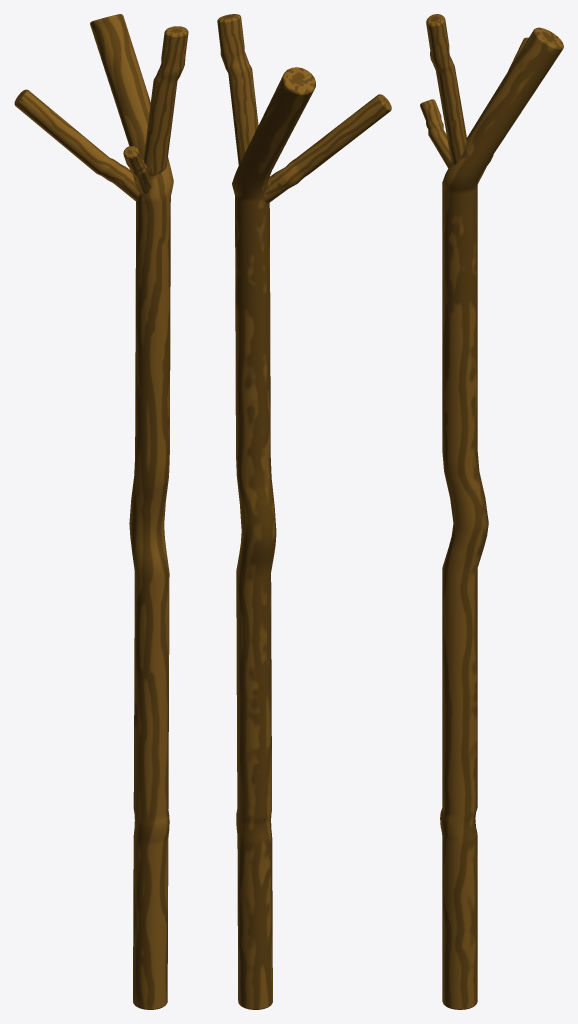
Rendered from stick.glb.
3 views of the same model, side by side, from view 1: azimuth 30°, elevation 25°; view 2: azimuth 210°, elevation 25°; view 3: azimuth 270°, elevation 25° (orthographic).
Parts seen in each view (by area): view 1: Object_2; view 2: Object_2; view 3: Object_2.
Part boxes in pixels (x1,y1,x2,y2): Object_2: (14,14,188,1009); Object_2: (217,14,391,1009); Object_2: (420,14,563,1009).
Size of the model in its own units: 4.71 by 35.27 by 4.64.
1 material, 1 textured.
